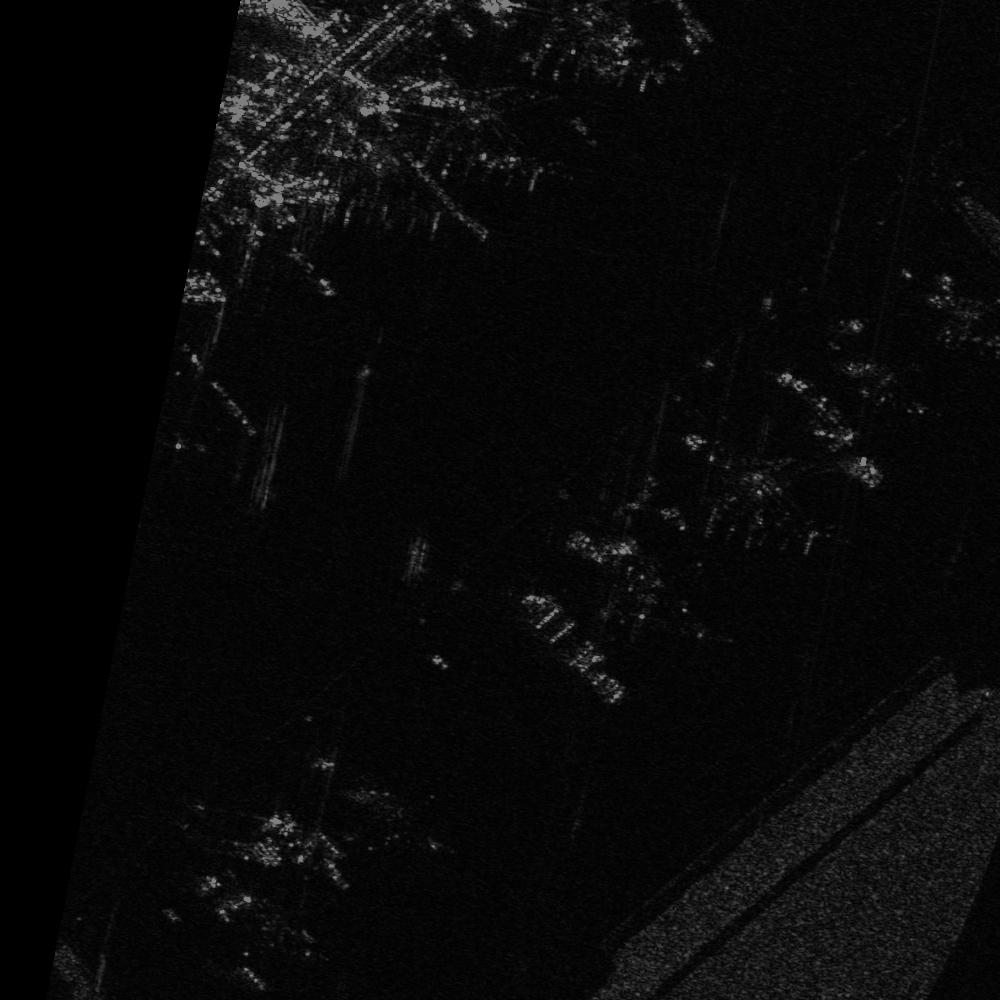Boeing737: (931, 269, 999, 357), (848, 352, 932, 422)
other: (581, 528, 734, 649), (687, 433, 839, 553), (420, 82, 555, 183), (345, 773, 468, 855)
